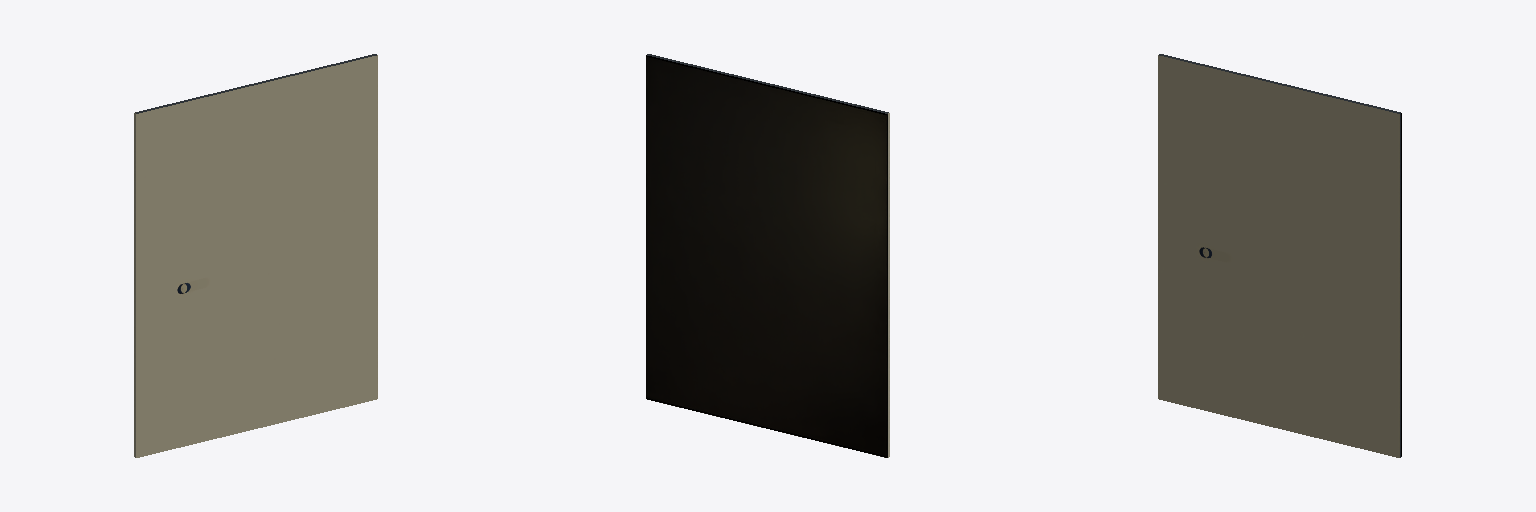
The picture shows the model from 3 angles: view 1: azimuth 30°, elevation 25°; view 2: azimuth 150°, elevation 25°; view 3: azimuth 330°, elevation 25°; orthographic projection.
Size of the model in its own units: 4.1 by 5.59 by 0.0607.
Materials: 1 (1 with a texture image).